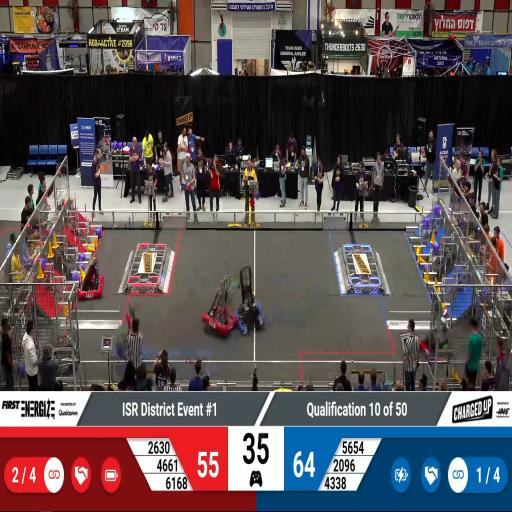robot: (202, 284, 238, 338), (236, 281, 265, 338), (114, 317, 143, 365), (420, 320, 452, 362), (54, 322, 80, 371), (76, 259, 104, 301)
